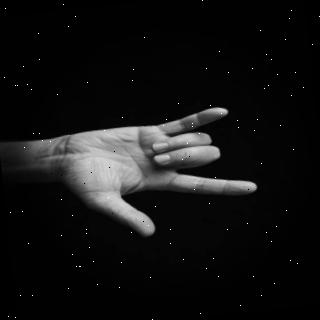I Love You: (59, 96, 260, 252)
